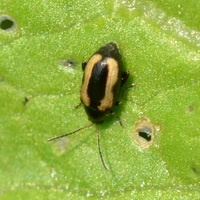insect: (80, 42, 128, 123)
